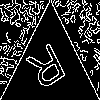R: (25, 41, 72, 100)
